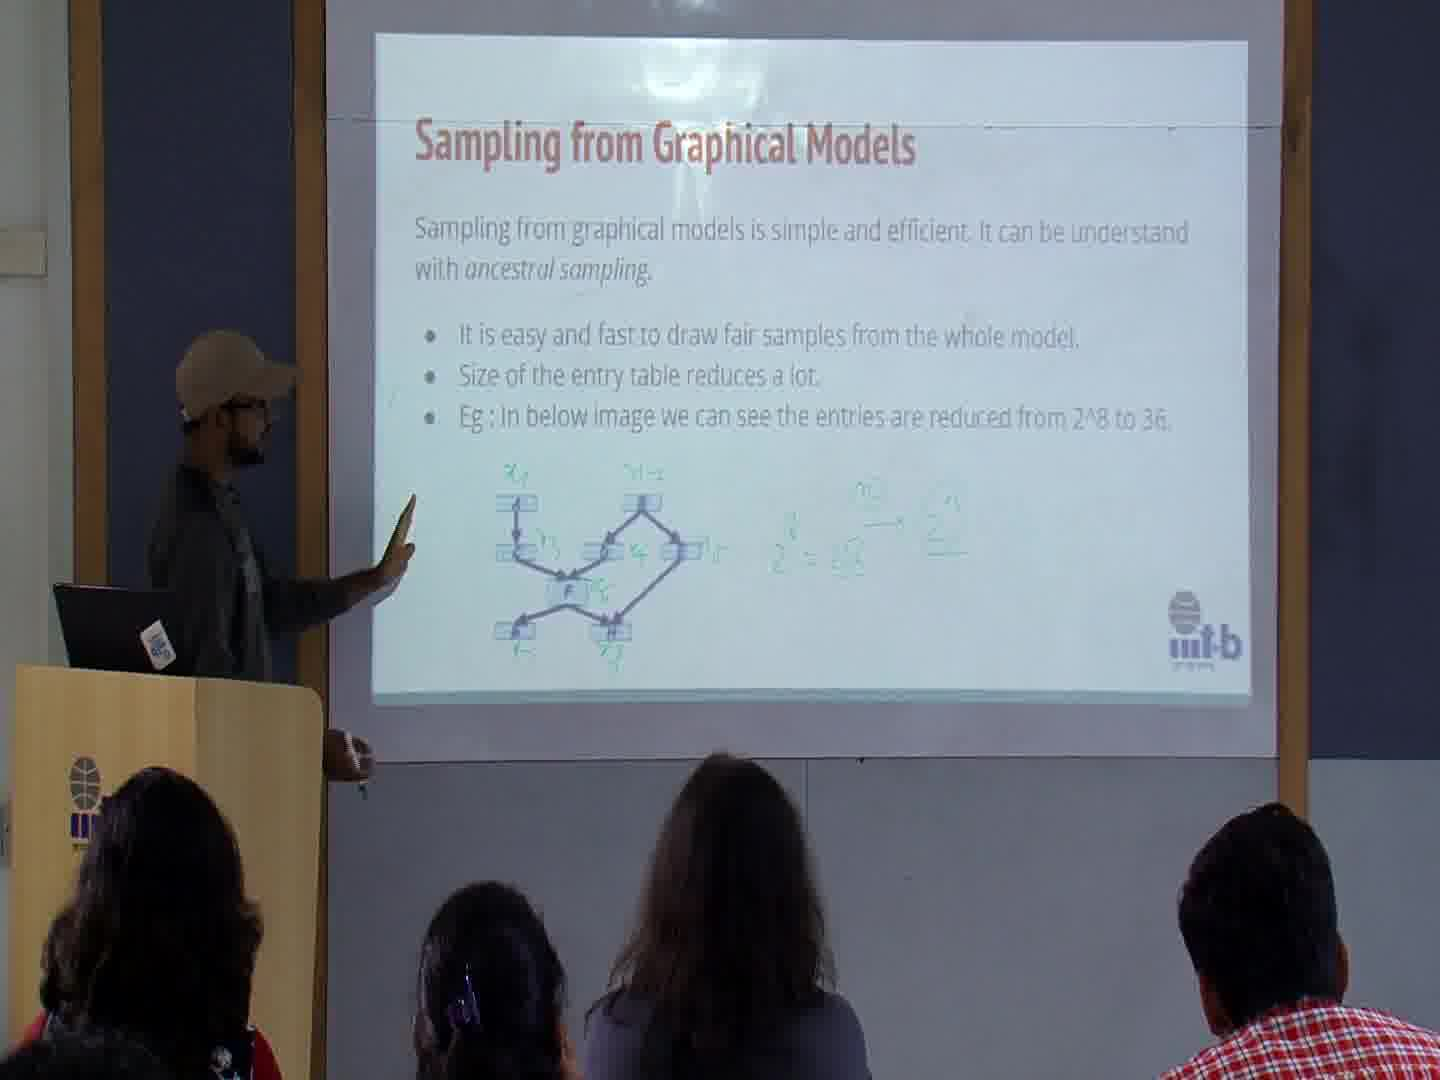slide: (375, 37, 1250, 704)
